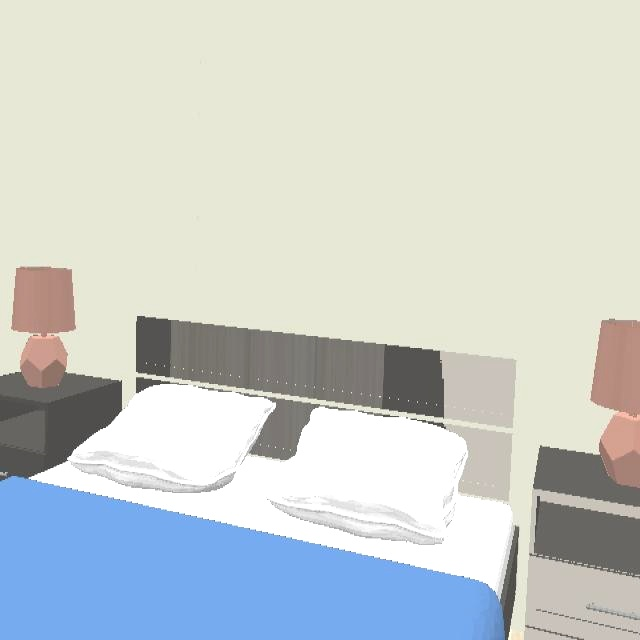bed: (0, 457, 516, 640)
lamp: (11, 267, 79, 389), (593, 320, 640, 491)
nighttable: (522, 447, 640, 640), (0, 365, 123, 479)
pillow: (259, 407, 470, 549), (96, 384, 276, 495)
